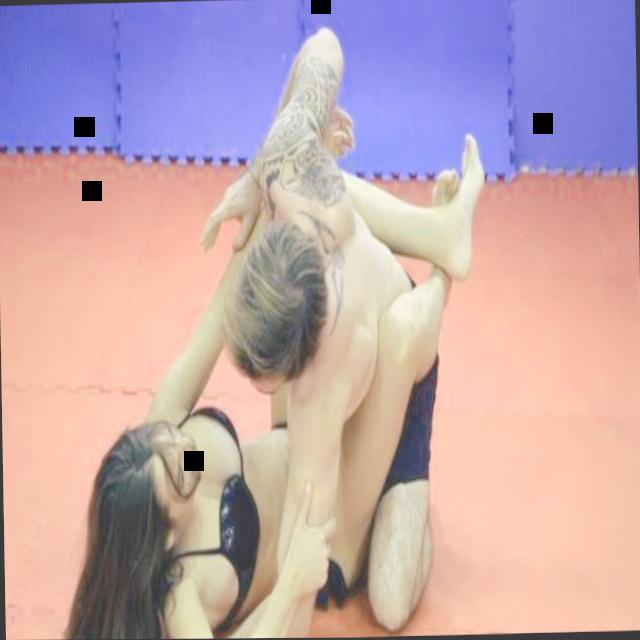Fall-Detected: (132, 56, 489, 639)
